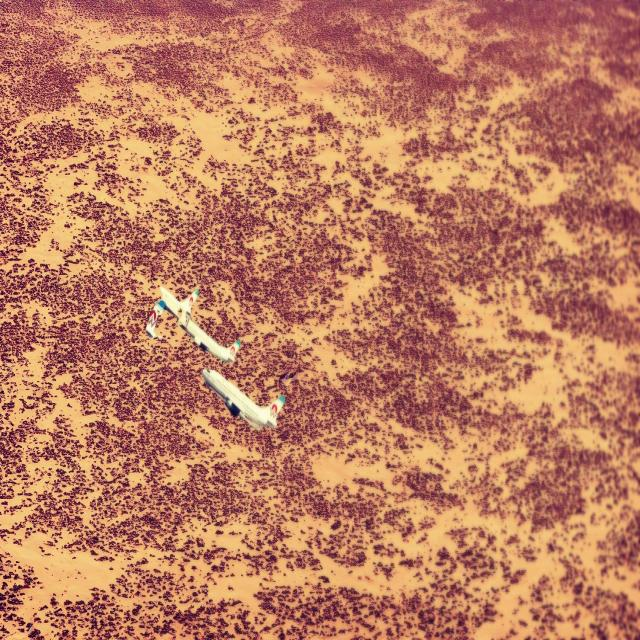airplane: (146, 284, 241, 366), (202, 368, 286, 432)
